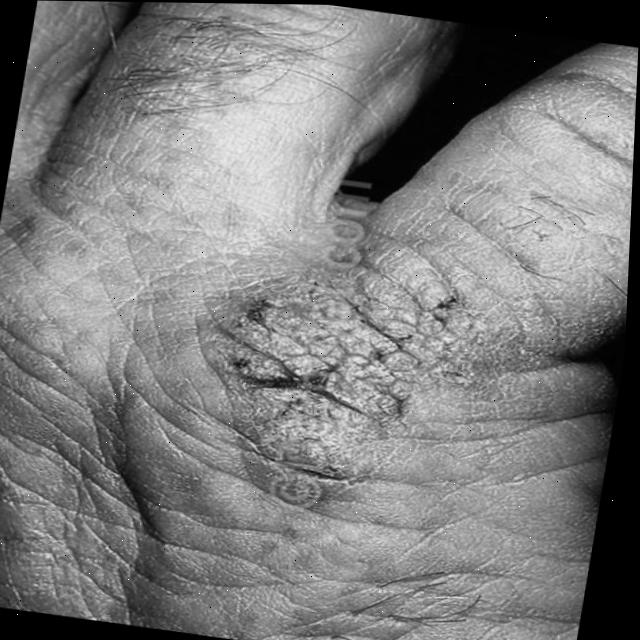Eczema: (0, 5, 594, 640)
